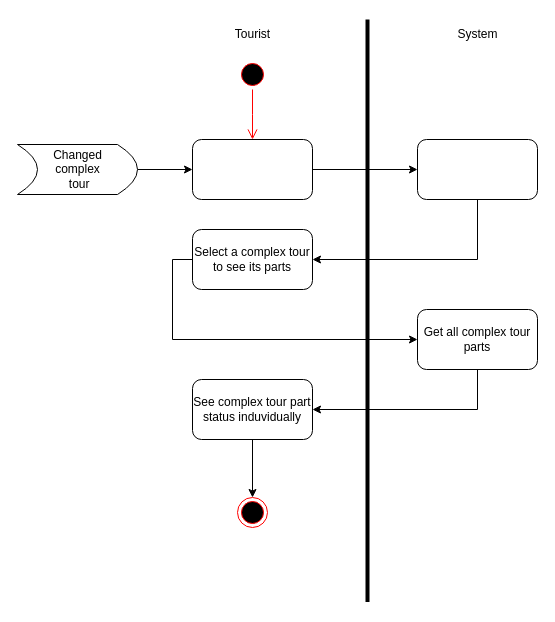
Image size: 555x622. Some labels were removed from this diagram. The centre of each missing label's shape, as x and y in pixels:
Get all complex tours: the point at 477,169
Open view complex tour request: the point at 252,169
